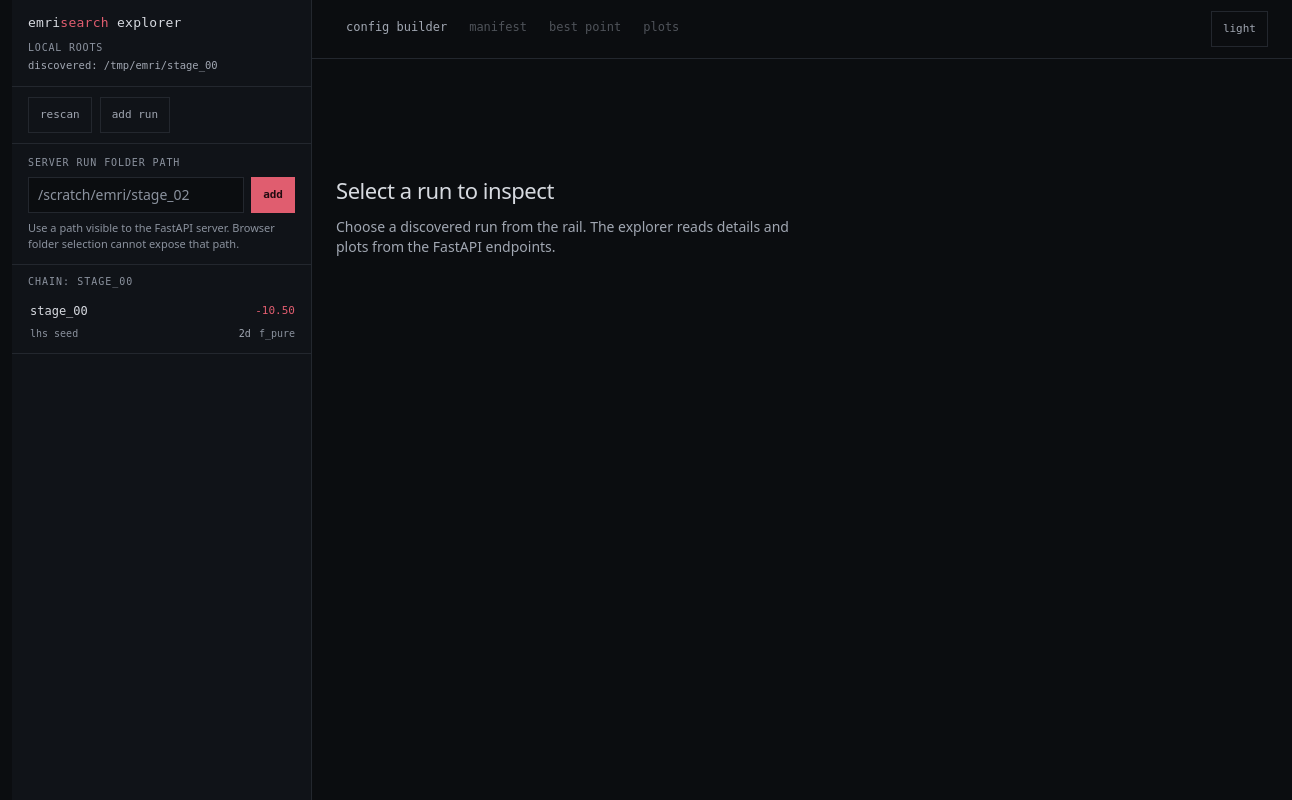
it: add-run workflow › handles a 201 Created add-run response
Expected: the button "stage_00 -10.50 lhs seed 2df_pure" is shown, x1=12 y1=295 x2=311 y2=353
Type "/scratch/emri/new run" into the field labelled "Server run folder path". click: coordinates (136, 195)
box: x1=28 y1=177 x2=244 y2=213
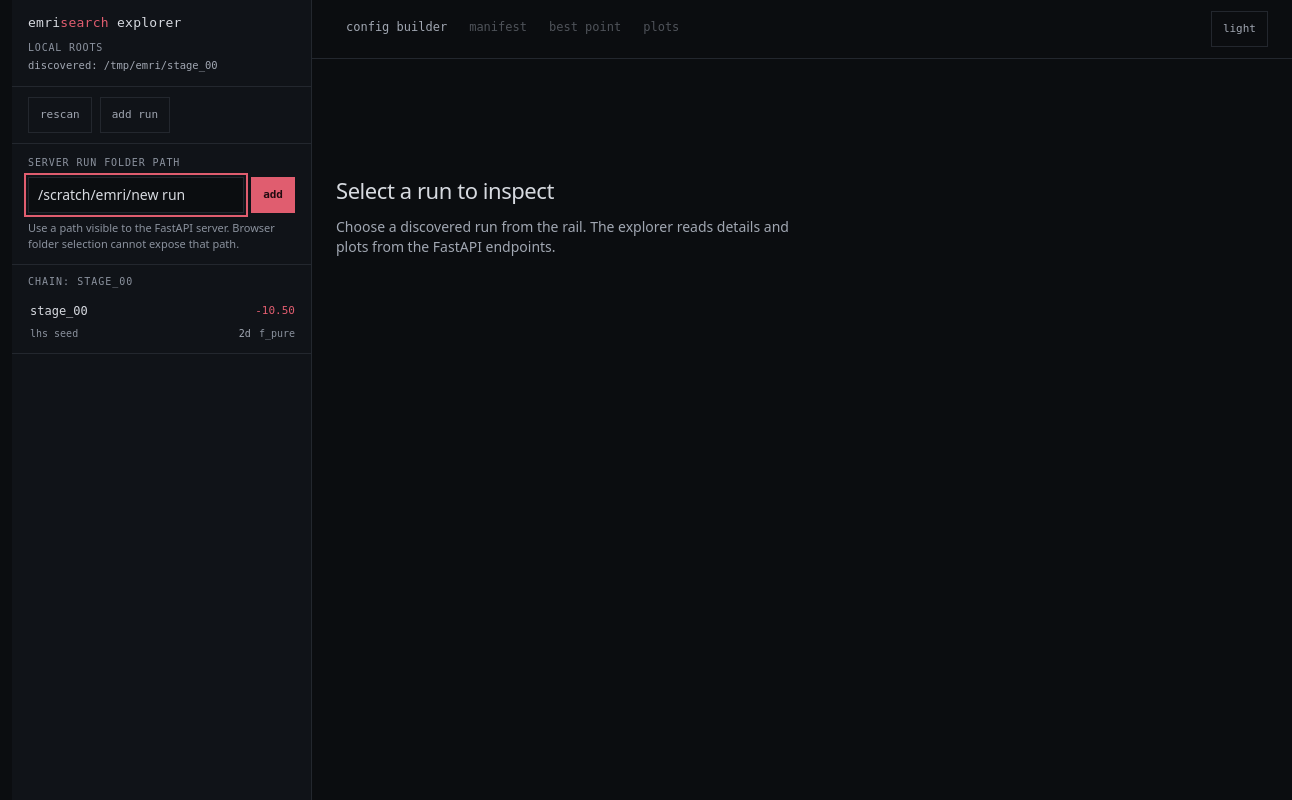
Click the button "add". click: coordinates (273, 195)
box: x1=251 y1=177 x2=295 y2=213
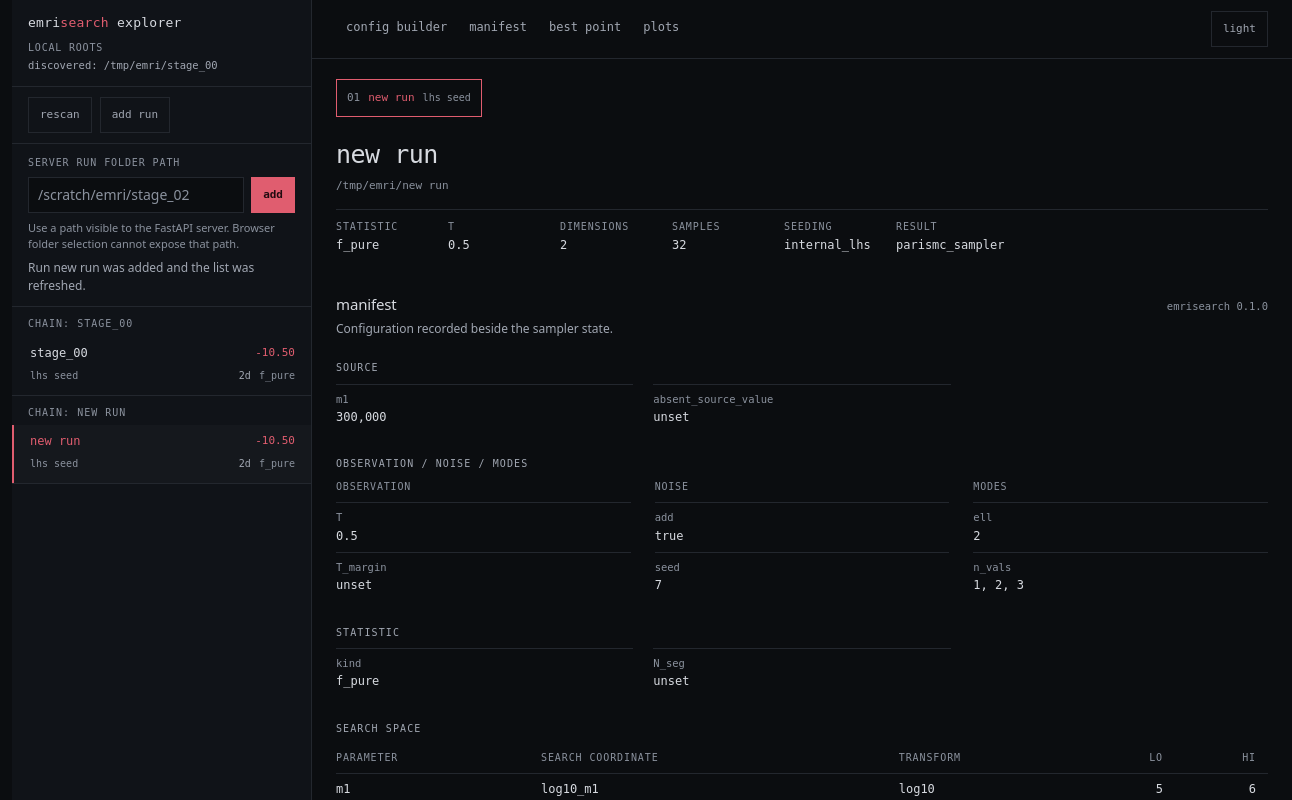
Expected: the text "Run new run was added and the list was refreshed." is shown, x1=28 y1=259 x2=254 y2=294
